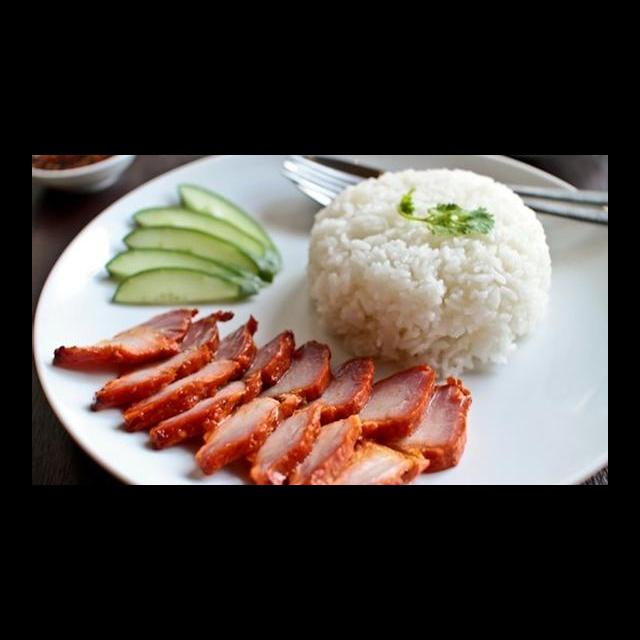com: (305, 165, 555, 380)
com suon: (53, 178, 566, 485)
suon: (192, 336, 335, 477), (143, 327, 298, 454), (284, 359, 438, 485), (239, 350, 379, 485), (310, 374, 475, 485), (117, 313, 261, 434), (86, 307, 236, 414), (50, 305, 199, 375)
